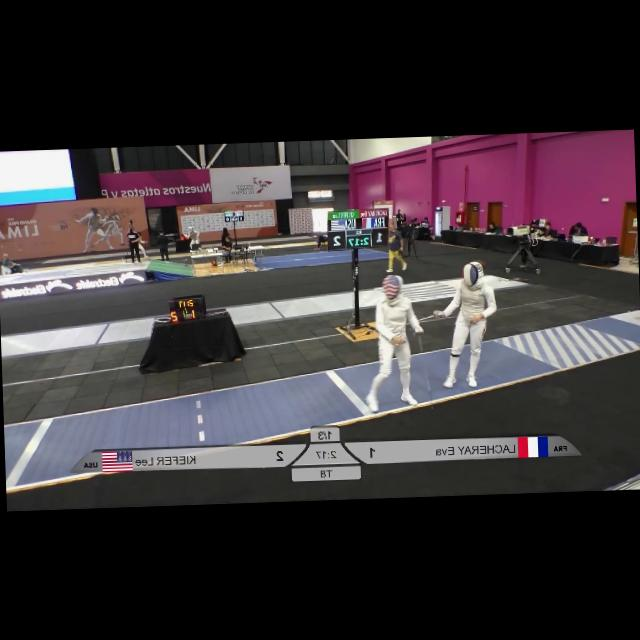blade: (410, 327, 438, 414), (404, 308, 441, 326)
